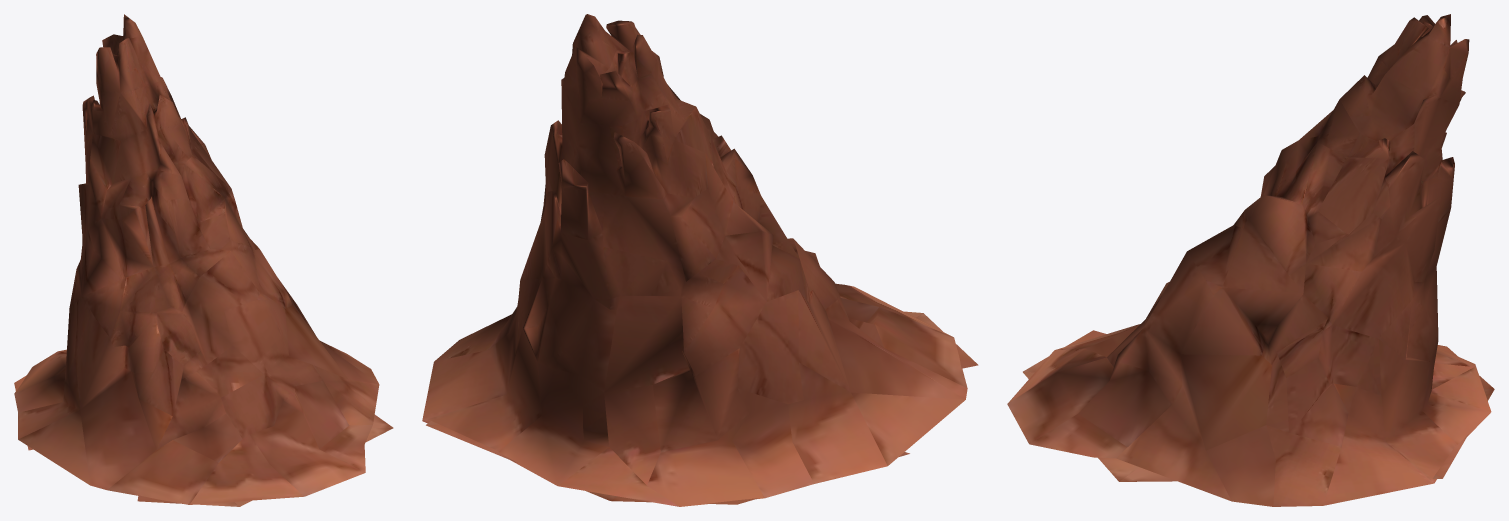
The model's file is l_rock_mars2.glb.
The picture shows the model from 3 angles, left to right: view 1: azimuth 30°, elevation 25°; view 2: azimuth 150°, elevation 25°; view 3: azimuth 270°, elevation 25°; orthographic projection. The views are drawn at different scales.
Bounding box in the file's own units: 0.8828 × 0.8466 × 0.9429.
1 material, 1 textured.
